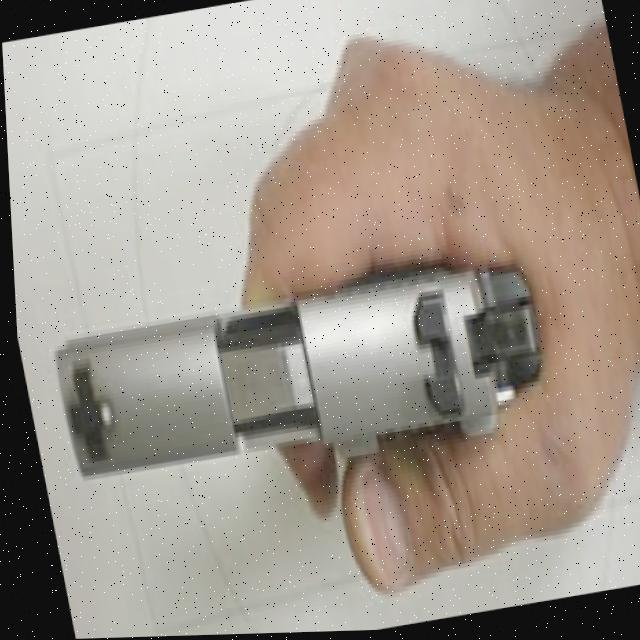pistol: (40, 252, 557, 512)
